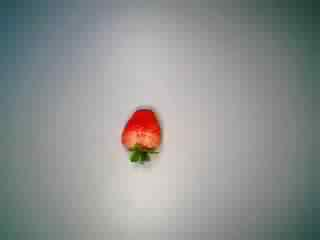strawberry: (111, 101, 177, 163)
